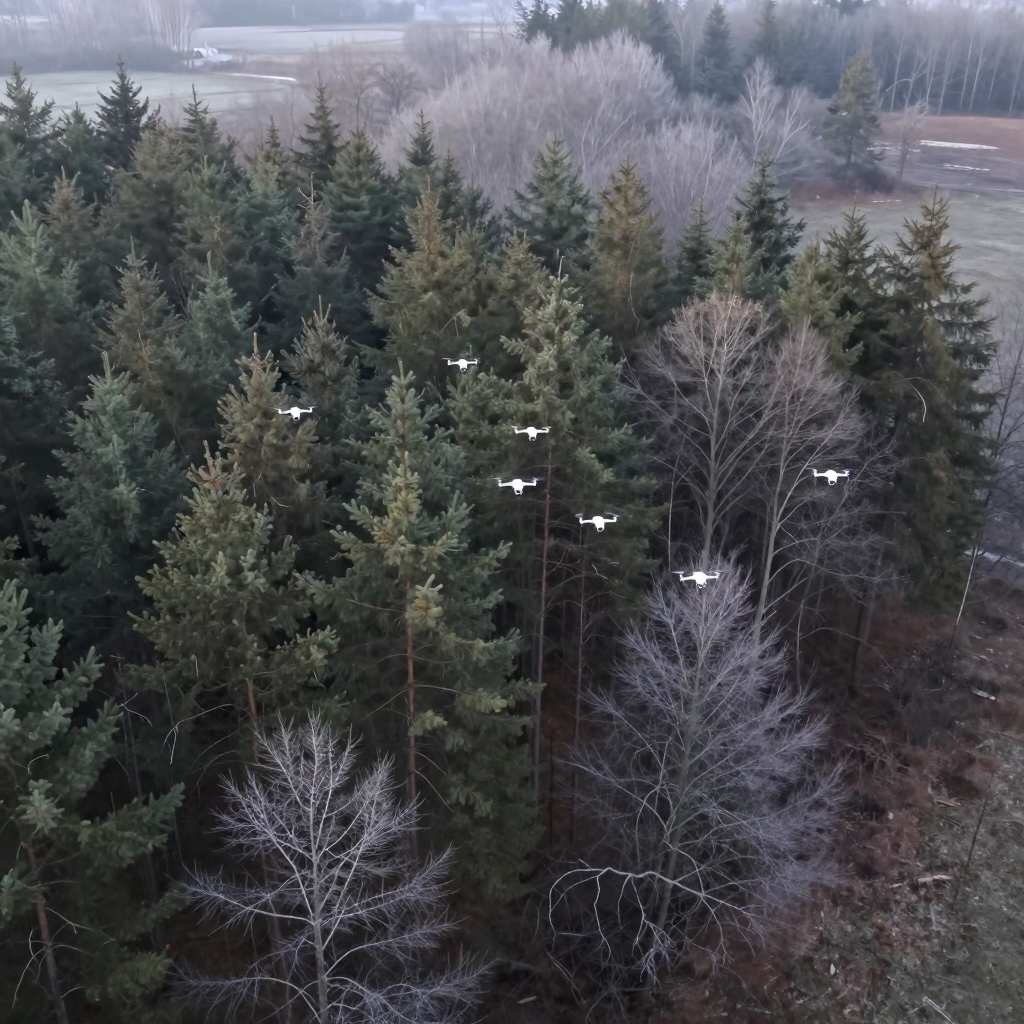drone: (671, 570, 724, 589), (575, 512, 620, 533), (498, 478, 537, 496), (811, 469, 849, 486), (272, 406, 313, 421), (442, 357, 480, 373), (513, 426, 550, 441)
